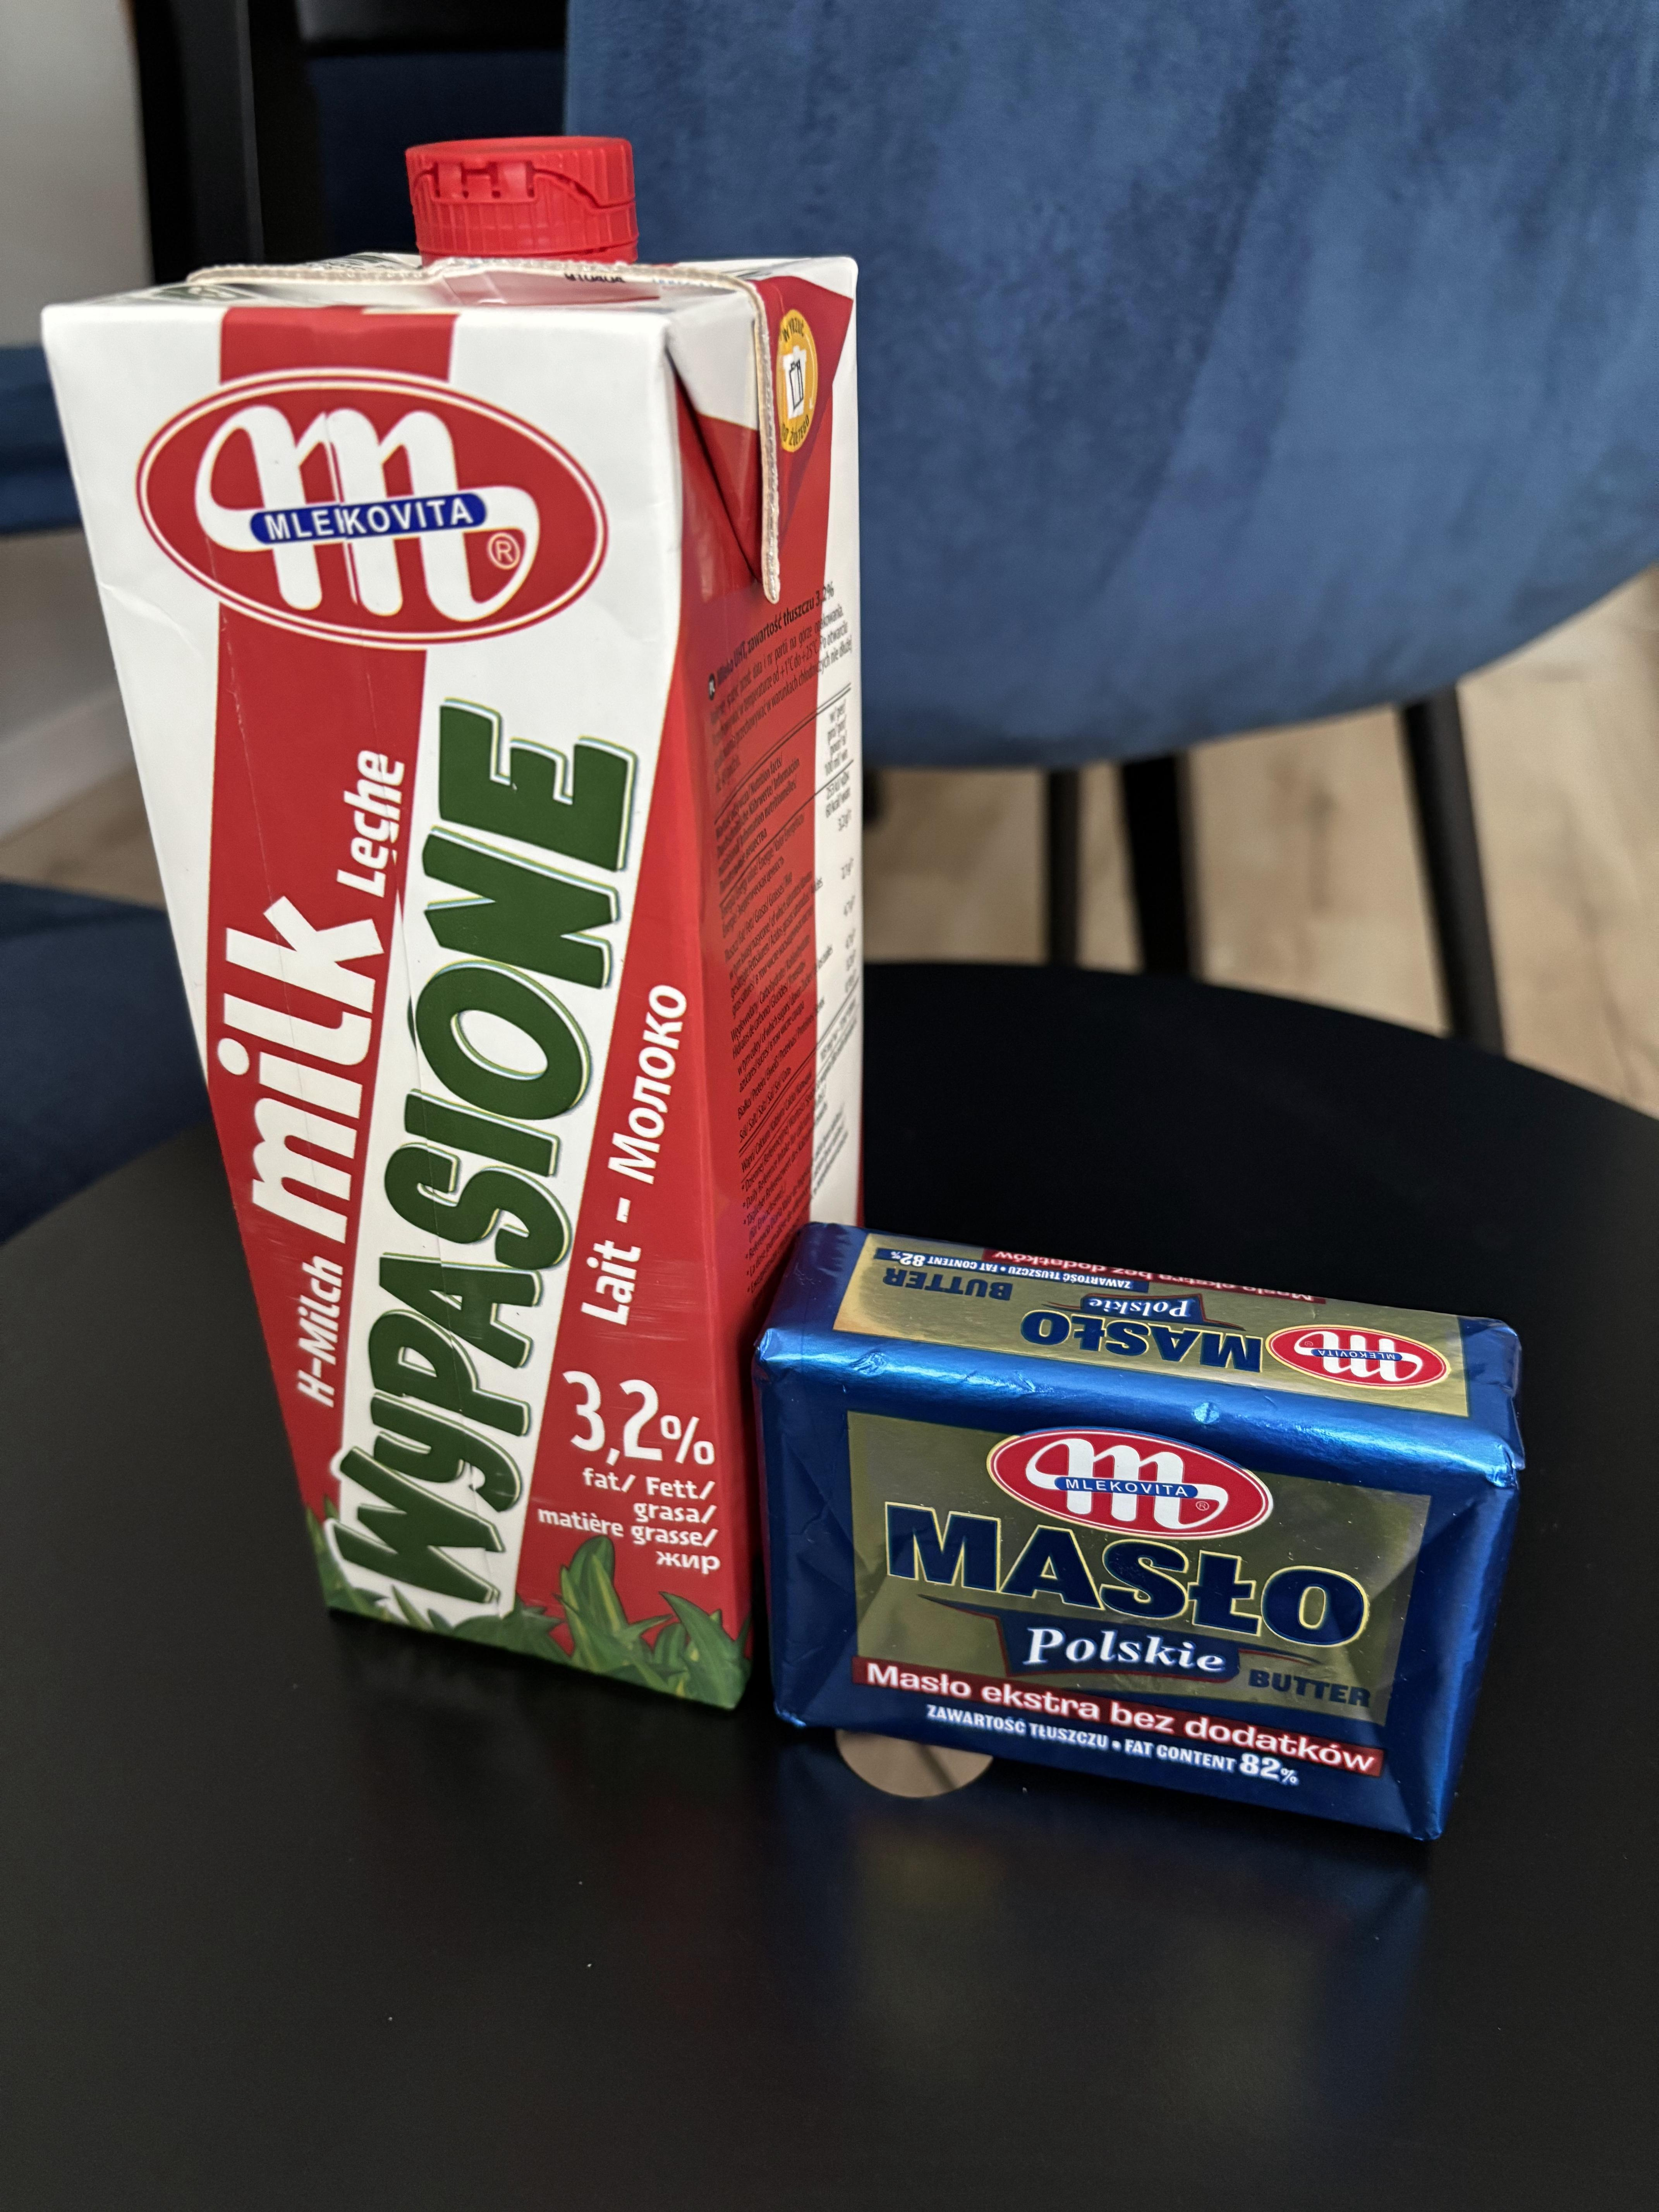Milk: (42, 268, 838, 1653)
